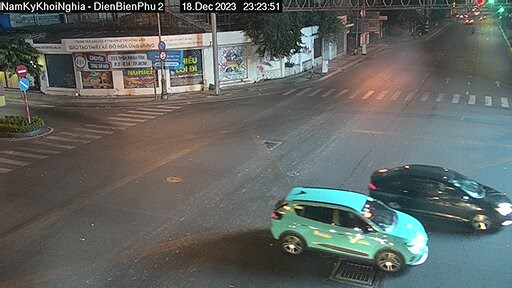car: (265, 179, 425, 283), (362, 144, 507, 249)
